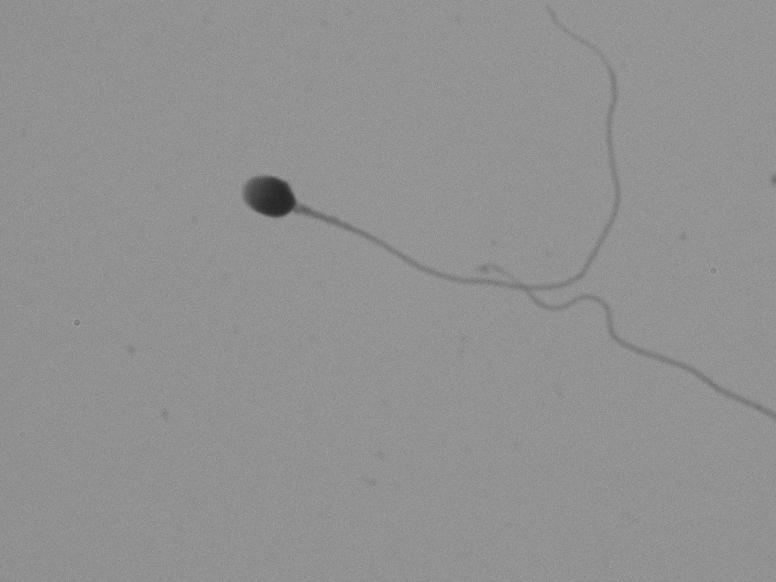Normal: (193, 21, 652, 309)
